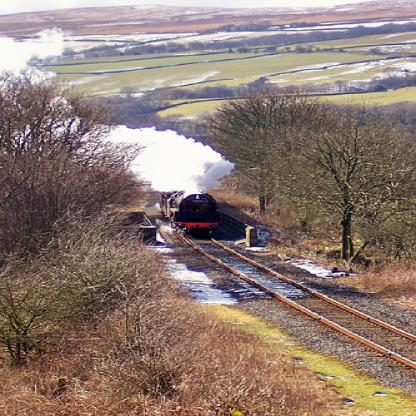train: (159, 190, 222, 237)
